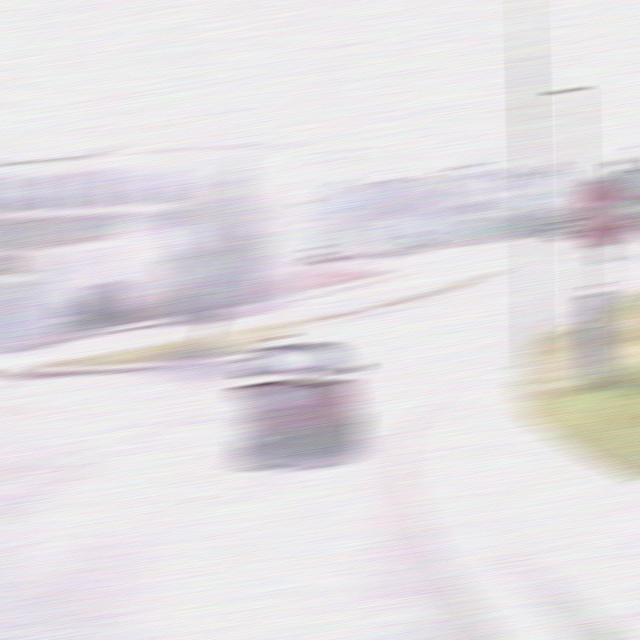stop: (574, 175, 634, 248)
